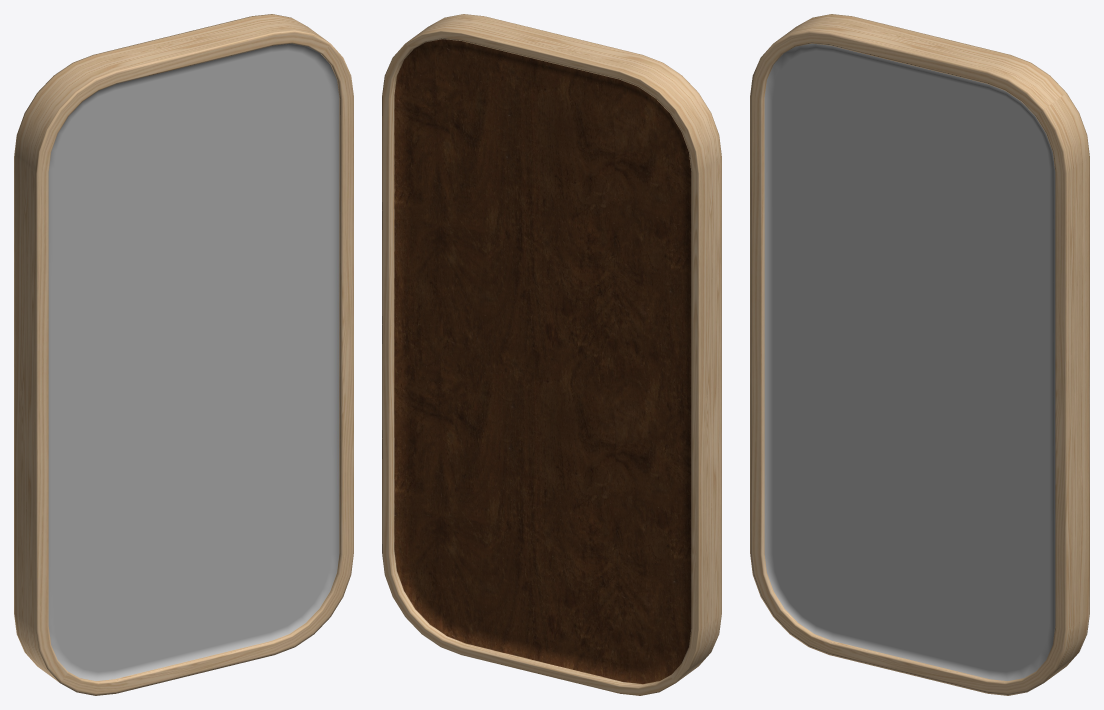
File: espejo.obj
The picture shows the model from 3 angles, left to right: view 1: azimuth 30°, elevation 25°; view 2: azimuth 150°, elevation 25°; view 3: azimuth 330°, elevation 25°; orthographic projection.
Parts seen in each view (by area): view 1: SM_Mirror_Material.001_0; view 2: SM_Mirror_Material.001_0; view 3: SM_Mirror_Material.001_0.
Boxes of the visible parts, box(x1,y1,x2,y2) form: SM_Mirror_Material.001_0: box(14, 14, 353, 695); SM_Mirror_Material.001_0: box(382, 14, 721, 695); SM_Mirror_Material.001_0: box(750, 14, 1089, 695).
Bounding box in the file's own units: 0.8 × 1.5 × 0.1.
1 material, 1 textured.
